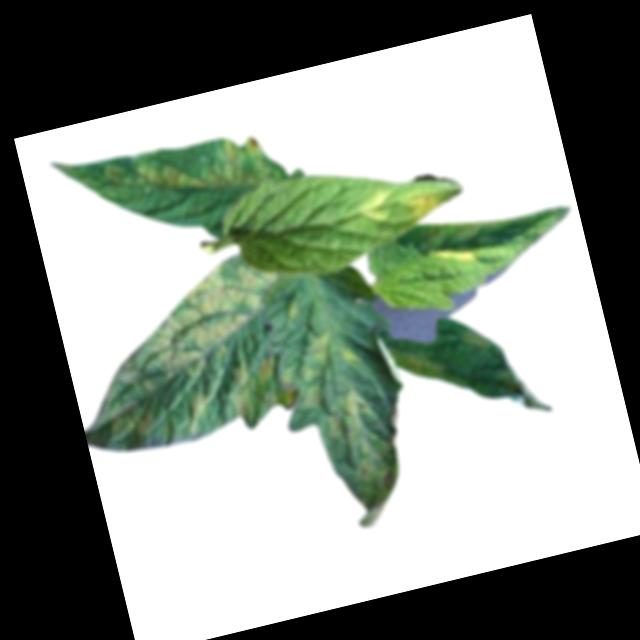Leaf_Mold: (55, 248, 308, 461), (268, 316, 427, 540), (98, 123, 270, 221), (395, 185, 443, 226), (355, 183, 398, 225), (454, 322, 492, 356), (431, 245, 476, 272)
